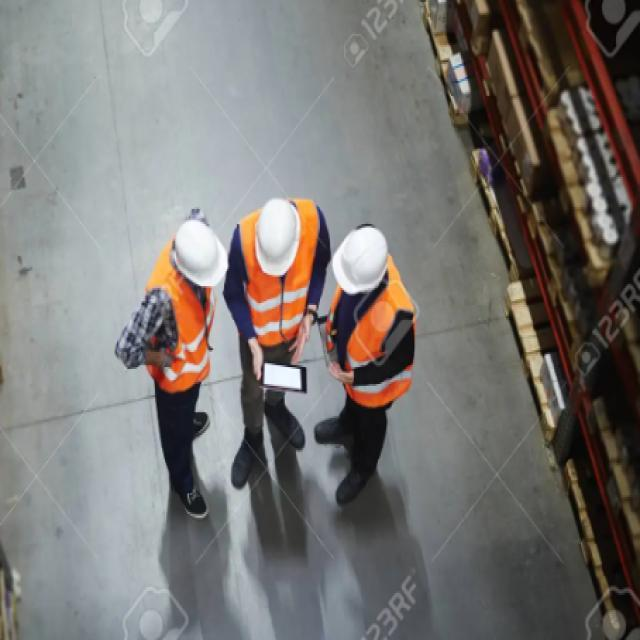boots: (228, 395, 306, 489), (313, 408, 380, 506), (164, 407, 212, 525)
helmet: (169, 217, 229, 301), (331, 224, 389, 302), (256, 196, 303, 280)
vest: (325, 252, 419, 409), (238, 198, 323, 352), (141, 227, 217, 394)
